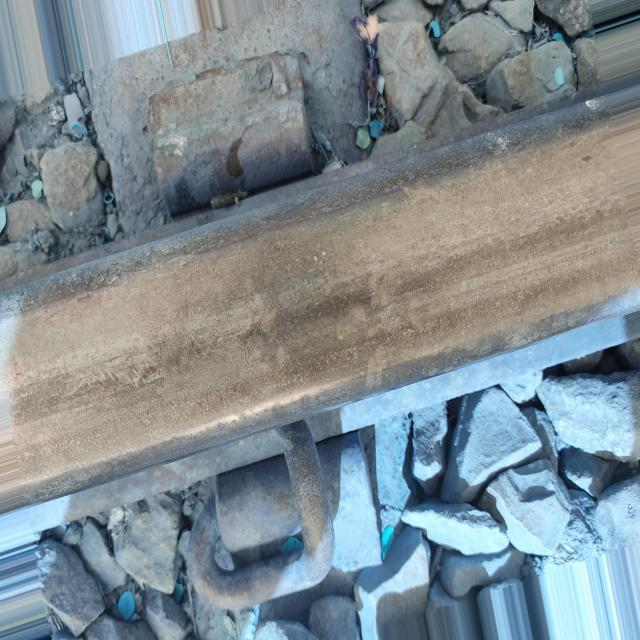Good Fasteners: (186, 420, 381, 619)
Missing Fastener: (140, 36, 326, 226)
